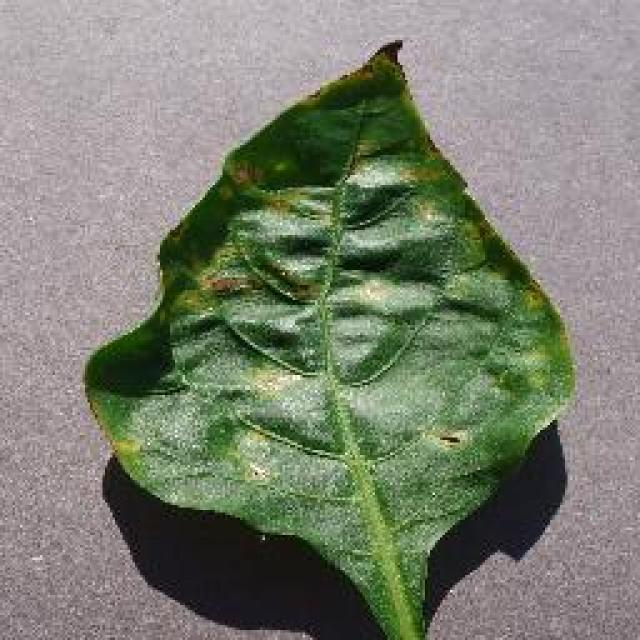Chilli_Bacterial_Spot: (80, 38, 580, 638), (203, 270, 255, 300), (405, 192, 445, 230), (222, 157, 260, 195), (258, 185, 302, 217), (515, 278, 550, 318), (428, 423, 470, 455), (107, 433, 145, 465), (370, 35, 405, 67), (435, 428, 463, 450)
